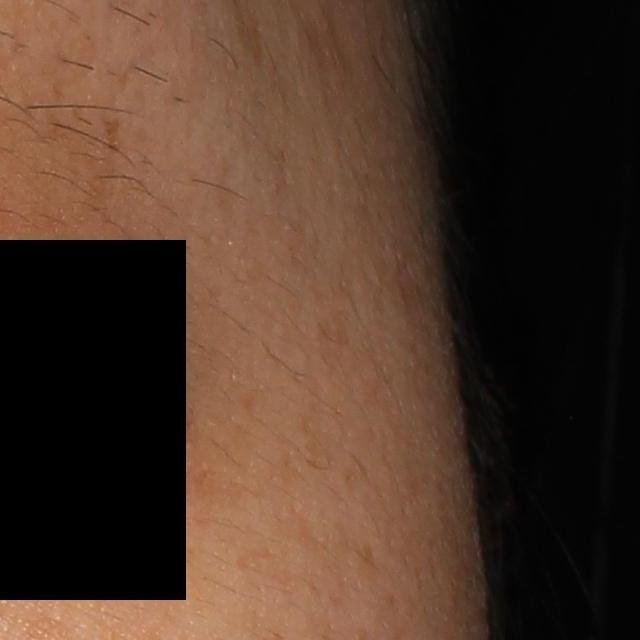melasma: (301, 382, 353, 478), (193, 465, 265, 514), (333, 530, 385, 577)
